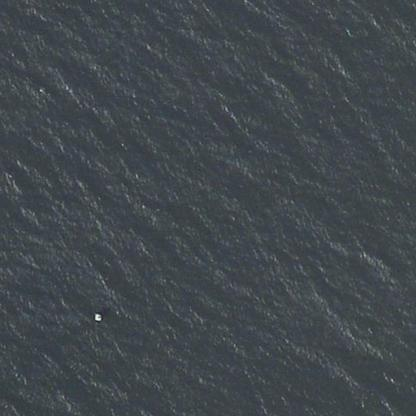ship: (91, 308, 103, 325)
